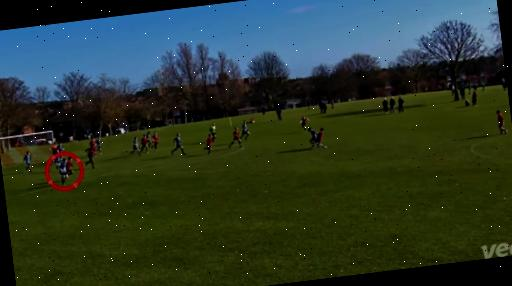highlight_overlay: (42, 149, 86, 193)
